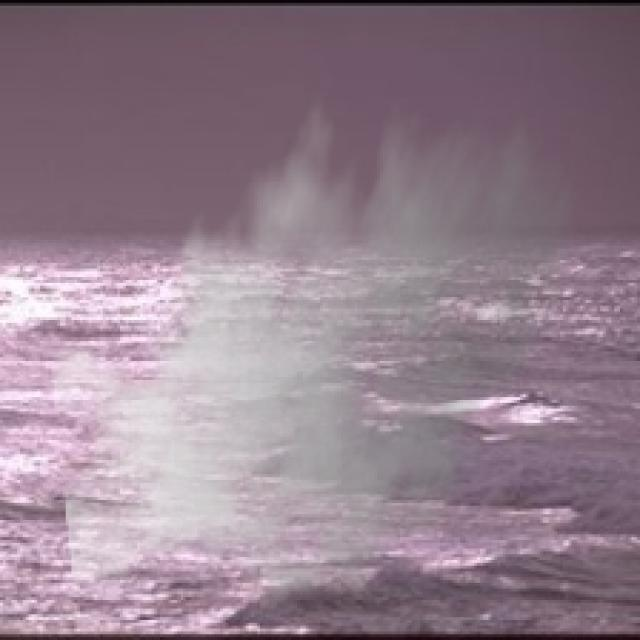Smoke: (48, 63, 583, 632)
